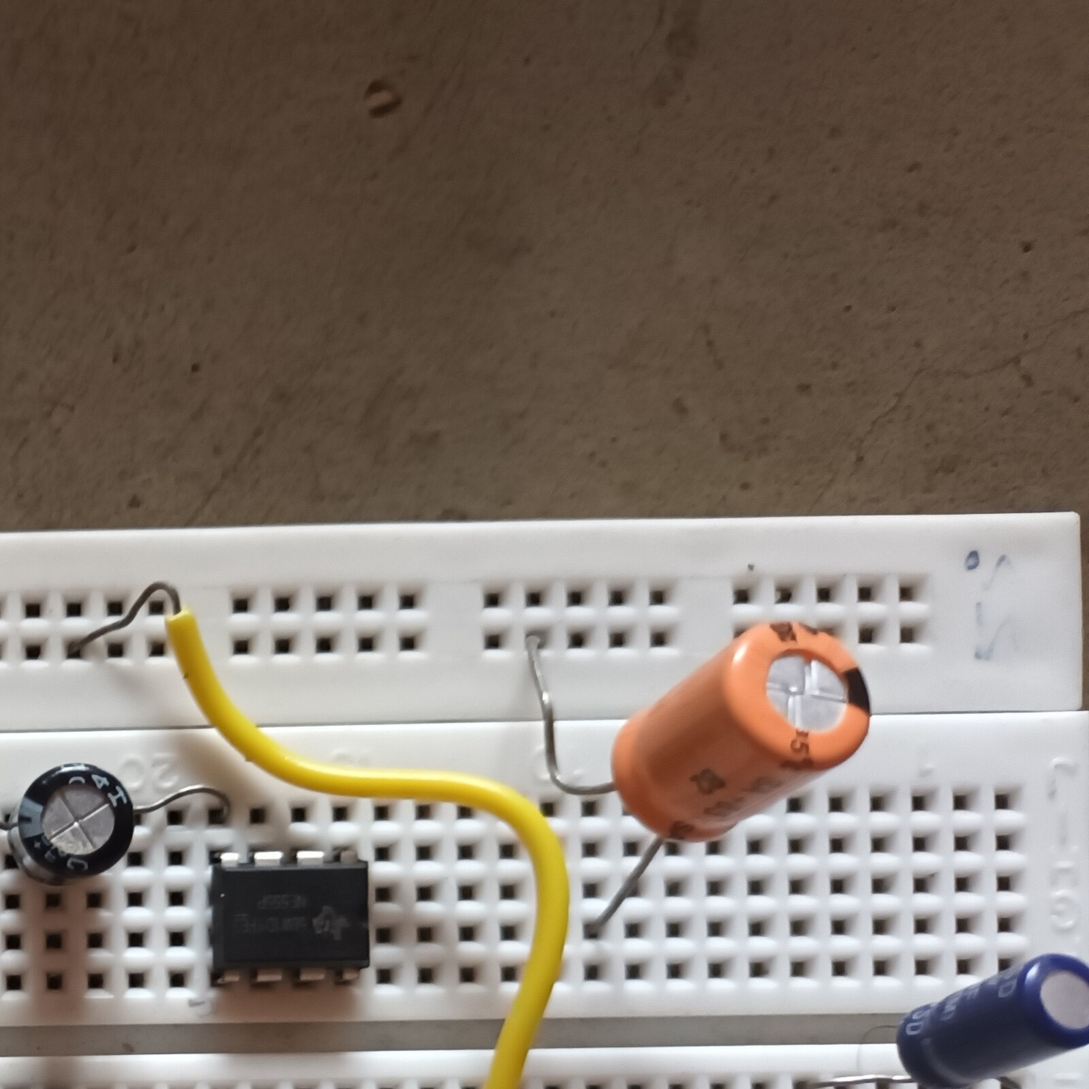capacitor: (608, 618, 869, 845), (895, 954, 1089, 1089), (10, 758, 135, 887)
